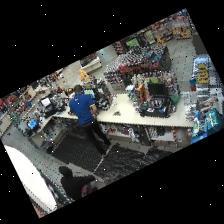person: (69, 85, 111, 157), (59, 166, 97, 200)
